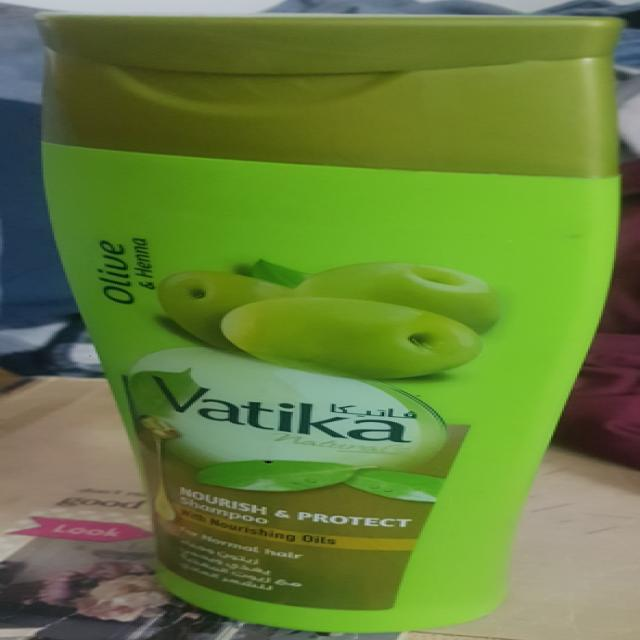general: (30, 8, 623, 632)
